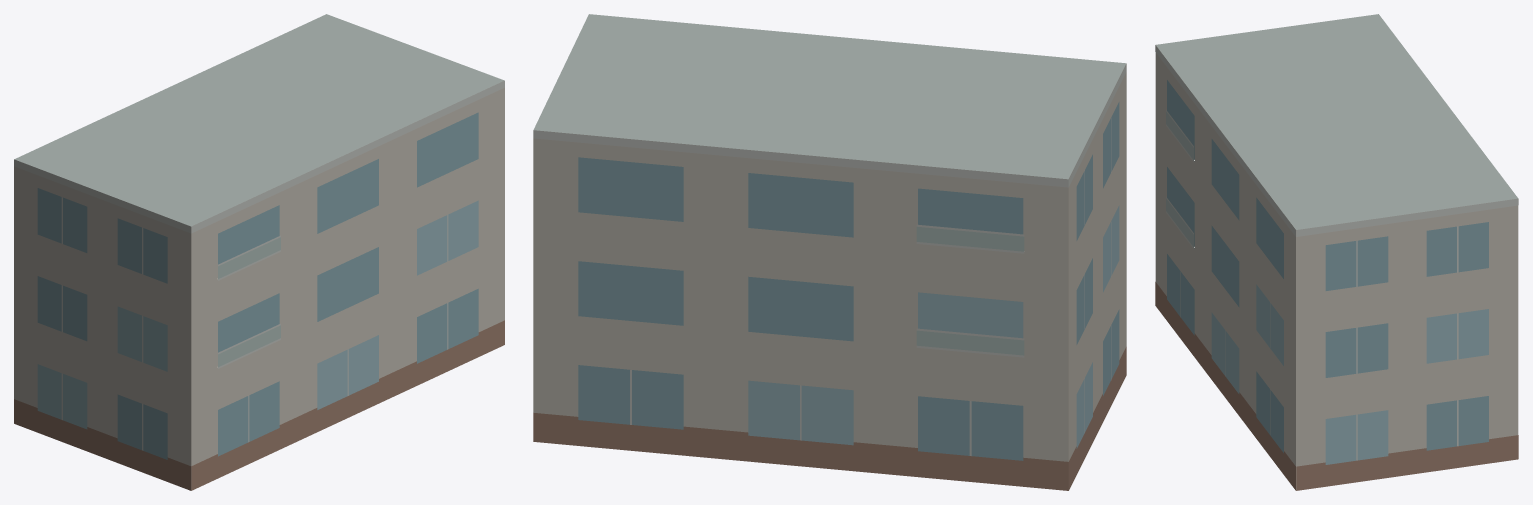
File: survey-upis-32968837.glb
3 views of the same model, side by side, from view 1: azimuth 30°, elevation 25°; view 2: azimuth 150°, elevation 25°; view 3: azimuth 270°, elevation 25° (orthographic). The views are drawn at different scales.
Parts seen in each view (by area): view 1: survey-upis-32968837.tmp; view 2: survey-upis-32968837.tmp; view 3: survey-upis-32968837.tmp.
Part boxes in pixels (<box>): survey-upis-32968837.tmp: <box>14,14,504,490</box>; survey-upis-32968837.tmp: <box>533,14,1126,490</box>; survey-upis-32968837.tmp: <box>1155,14,1518,490</box>.
Bounding box in the file's own units: 16.27 × 9.15 × 11.55.
